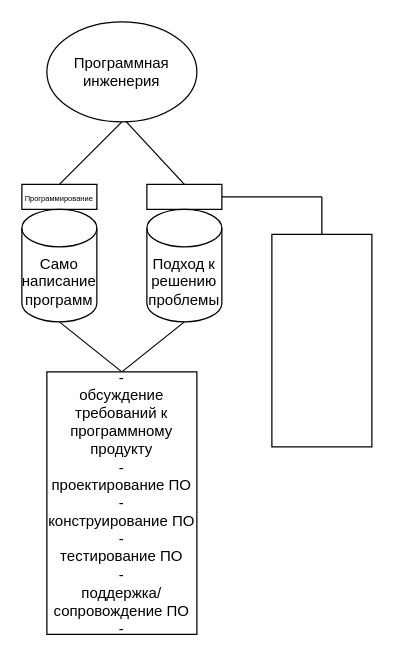
Image size: 394x660. Some labels were removed from this diagram. Each missing label, with the box of its shape:
- изобретение - разработка - создание - внедрение - улучшение -: (271, 233, 372, 447)
Инженерия: (146, 183, 222, 209)
